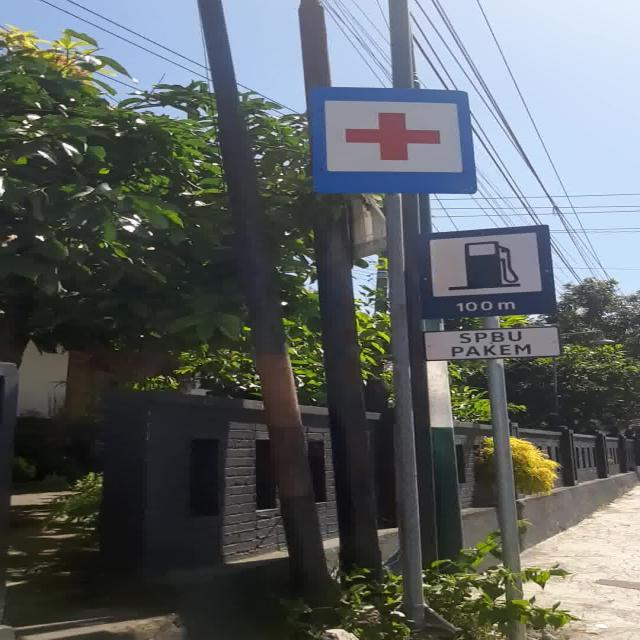Balai Pertolongan Pertama: (309, 88, 477, 194)
Pom Bensin: (421, 224, 556, 318)
